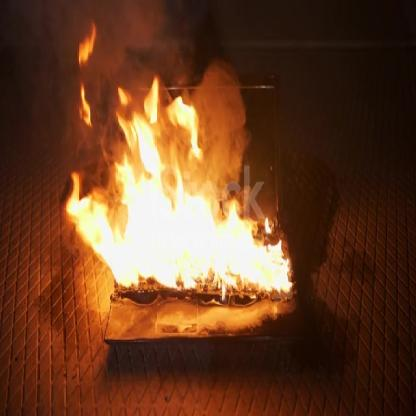fire: (65, 83, 291, 298)
smoke: (4, 0, 244, 187)
